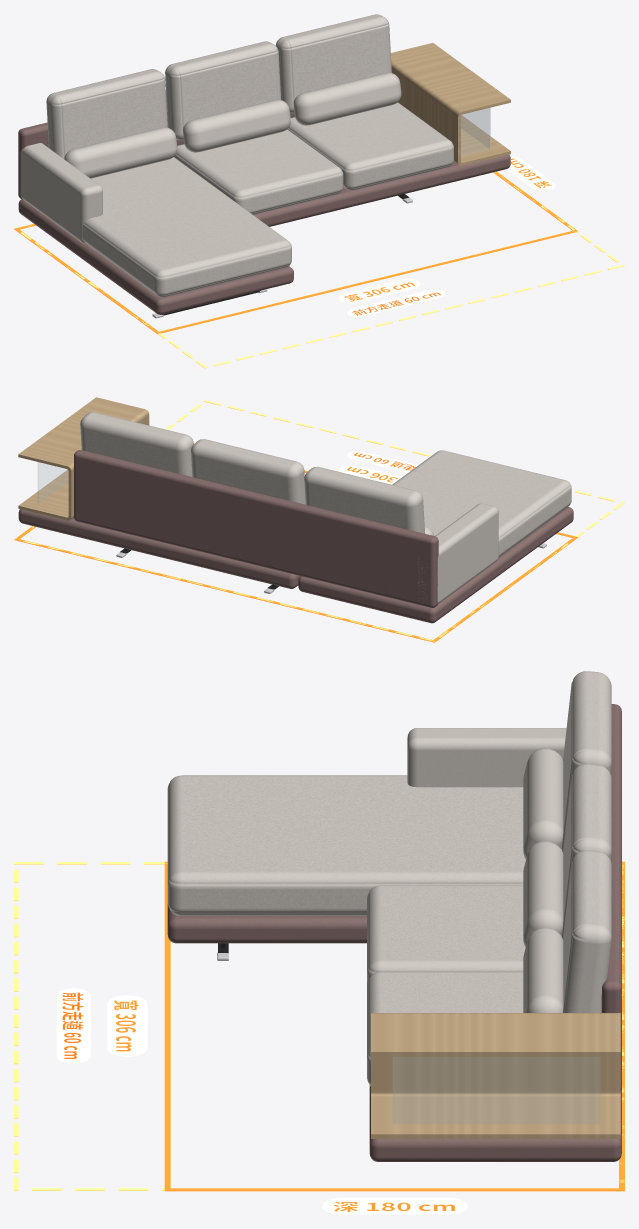
Rendered from ownFloatL-f.glb.
3 renders of one model, top to bottom at view 1: azimuth 30°, elevation 25°; view 2: azimuth 150°, elevation 25°; view 3: azimuth 270°, elevation 25°, orthographic. The views are drawn at different scales.
Visible parts, largest first — view 1: object 28, object 22, object 25, object 18, object 29, object 26, object 23, ar-frame, object 31, object 2, object 1, object 24 (+5 smaller); view 2: object 21, object 28, object 29, object 18, object 26, object 2, object 23, object 1, object 31, ar-frame, object 20; view 3: object 28, object 18, ar-frame, object 20, object 25, object 31, object 23, object 22, object 1, object 2, object 29, object 26 (+4 smaller).
Boxes of the visible parts, x1,y1,x2,y2 form: object 28: [82, 157, 291, 297]; object 22: [287, 102, 453, 190]; object 25: [174, 129, 343, 214]; object 18: [391, 43, 510, 165]; object 29: [46, 69, 167, 158]; object 26: [165, 41, 281, 140]; object 23: [275, 14, 391, 113]; ar-frame: [14, 156, 624, 368]; object 31: [20, 143, 102, 243]; object 2: [18, 199, 293, 314]; object 1: [253, 154, 510, 226]; object 24: [293, 72, 401, 125]; object 21: [74, 450, 438, 607]; object 28: [392, 450, 571, 557]; object 29: [304, 466, 424, 533]; object 18: [18, 397, 149, 520]; object 26: [191, 439, 305, 504]; object 2: [298, 507, 573, 623]; object 23: [80, 412, 193, 476]; object 1: [18, 509, 300, 588]; object 31: [418, 503, 498, 603]; ar-frame: [14, 400, 624, 642]; object 20: [38, 462, 68, 503]; object 28: [167, 775, 561, 915]; object 18: [371, 1013, 620, 1138]; ar-frame: [14, 861, 624, 1214]; object 20: [394, 1057, 600, 1123]; object 25: [367, 885, 525, 983]; object 31: [407, 728, 566, 787]; object 23: [563, 850, 611, 1012]; object 22: [367, 972, 523, 1086]; object 1: [369, 1086, 621, 1161]; object 2: [167, 904, 366, 943]; object 29: [562, 671, 611, 852]; object 26: [562, 764, 611, 938].
Size of the model in its own units: 3.31 by 0.944 by 2.42.
11 materials, 6 textured.
